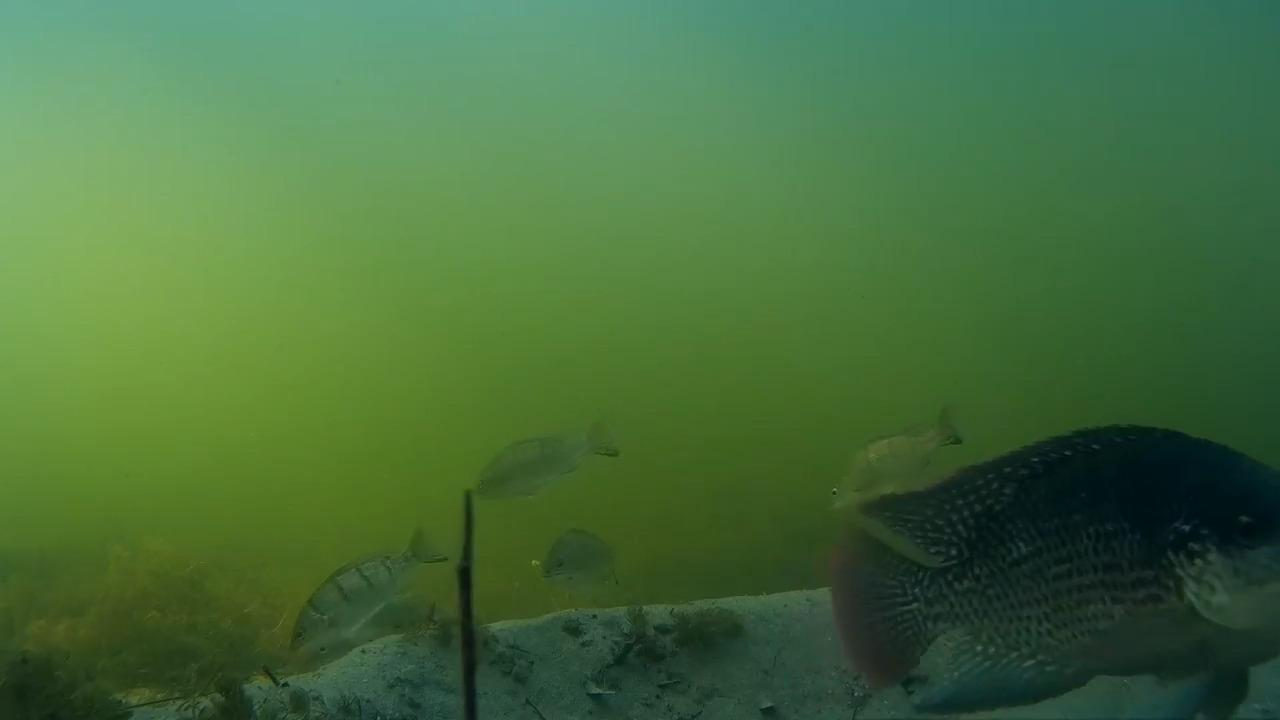Tilapia: (843, 404, 1280, 720), (272, 525, 462, 708), (813, 384, 968, 508), (466, 417, 632, 513), (539, 514, 634, 596)
